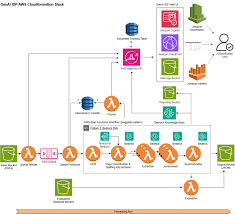cloudfront: (162, 34, 178, 51)
lambda: (101, 94, 122, 113), (161, 147, 178, 164), (182, 179, 199, 196), (110, 145, 127, 162), (85, 145, 102, 162), (62, 145, 79, 162), (20, 145, 37, 162), (186, 145, 201, 161), (140, 148, 155, 163)
s3: (55, 179, 72, 196), (162, 58, 178, 75), (0, 146, 17, 162), (218, 145, 234, 161), (163, 86, 176, 99)
sagemaker: (163, 106, 176, 119)
